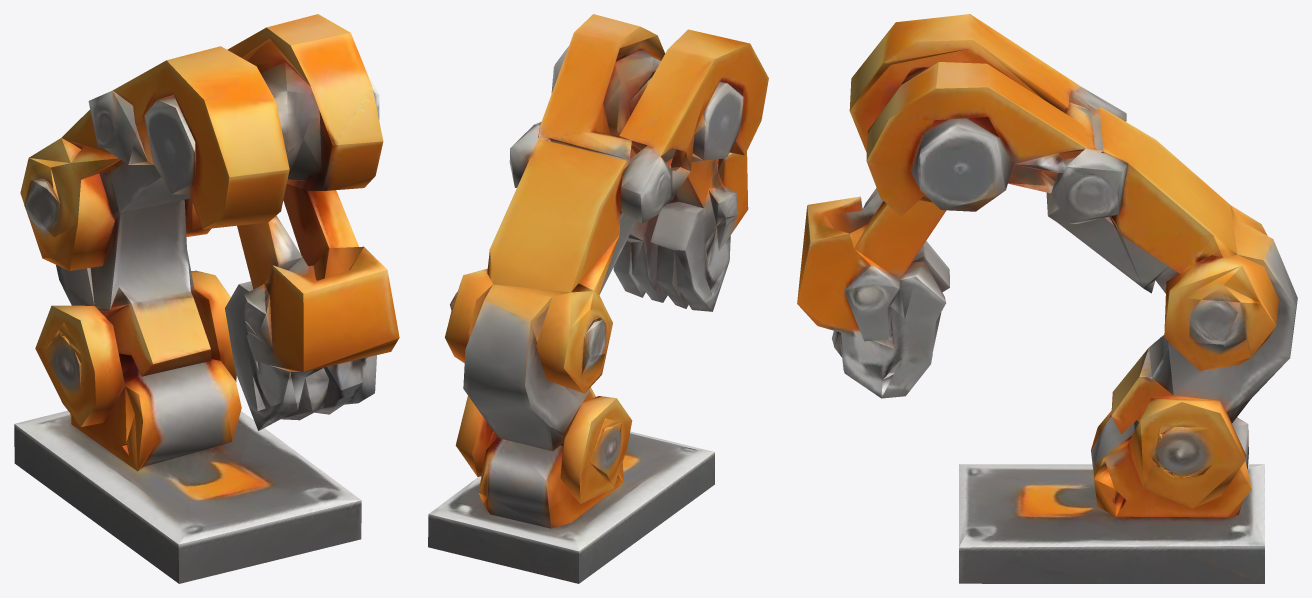
File: m2RobotArm.glb
3 renders of one model, left to right at view 1: azimuth 30°, elevation 25°; view 2: azimuth 150°, elevation 25°; view 3: azimuth 270°, elevation 25°, orthographic. The views are drawn at different scales.
Parts seen in each view (by area): view 1: model; view 2: model; view 3: model.
Part boxes in pixels (bbox=[...]): model: bbox=[14, 14, 399, 583]; model: bbox=[428, 14, 768, 583]; model: bbox=[797, 14, 1297, 583].
Size of the model in its own units: 0.7385 by 1.9 by 1.78.
Materials: 1 (1 with a texture image).
